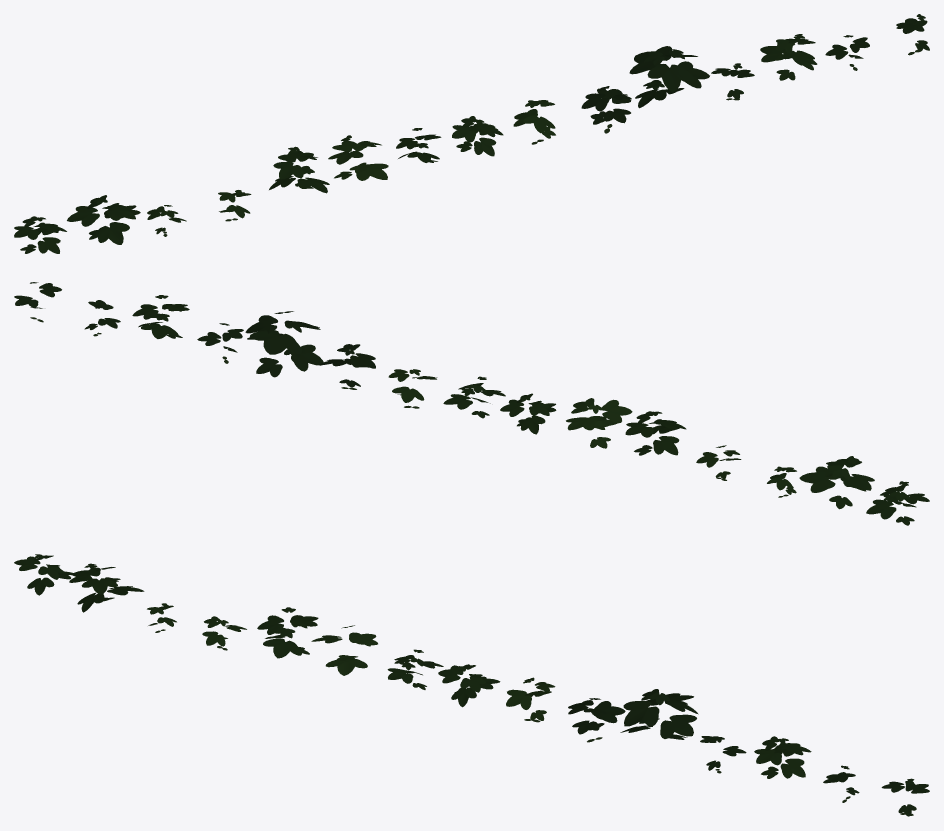
Rendered from ROW_10_SEG2_foliage.dae.
3 views of the same model, one above another, from view 1: azimuth 30°, elevation 25°; view 2: azimuth 150°, elevation 25°; view 3: azimuth 330°, elevation 25° (orthographic).
Parts seen in each view (by area): view 1: ROW_10_SEG2_foliage; view 2: ROW_10_SEG2_foliage; view 3: ROW_10_SEG2_foliage.
Boxes of the visible parts, x1=… form: ROW_10_SEG2_foliage: x1=14, y1=14, x2=929, y2=253; ROW_10_SEG2_foliage: x1=14, y1=282, x2=929, y2=525; ROW_10_SEG2_foliage: x1=14, y1=554, x2=929, y2=816.
Size of the model in its own units: 4.49 by 0.3886 by 0.3079.
